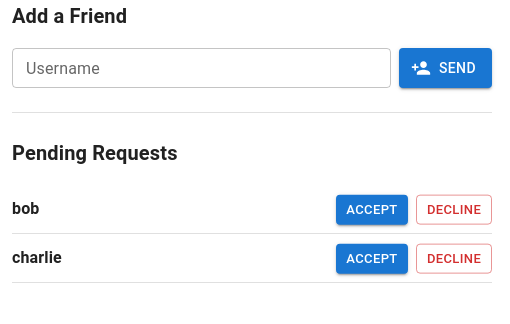
Test: FriendRequests › shows validation error when submitting empty username
The width and height of the screenshot is (510, 324).
Click the button "Send" at (445, 68), box [399,48,492,88]
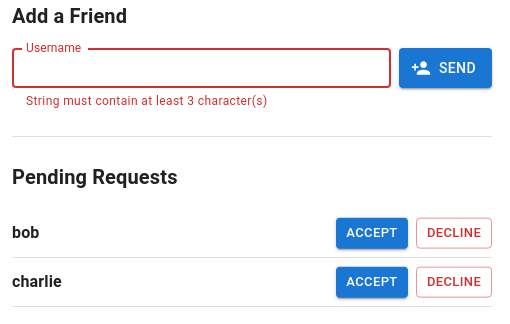
expect the text "String must contain at least 3 character(s)" is shown: met, box [26,94,268,108]
